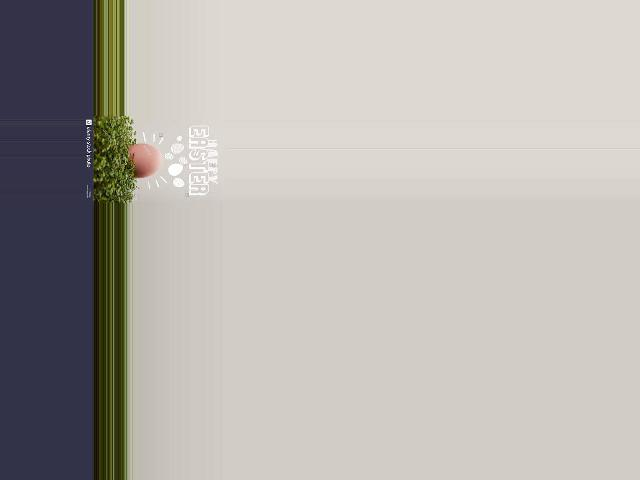egg: (128, 144, 162, 179)
